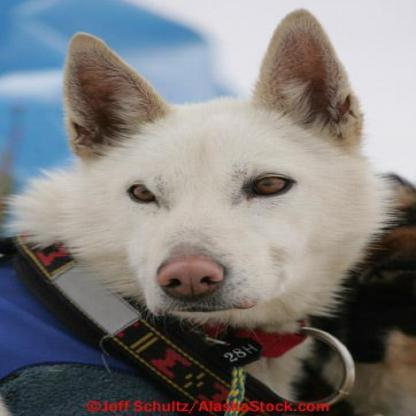dhole: (0, 4, 399, 402)
